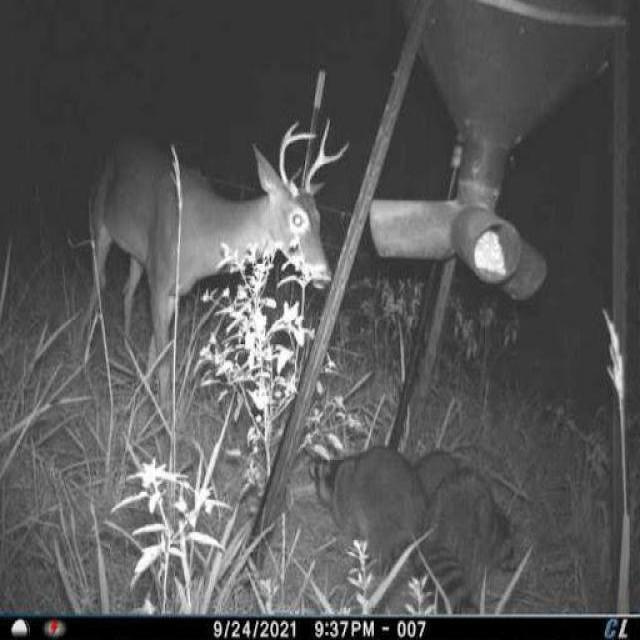deer: (69, 108, 360, 415)
